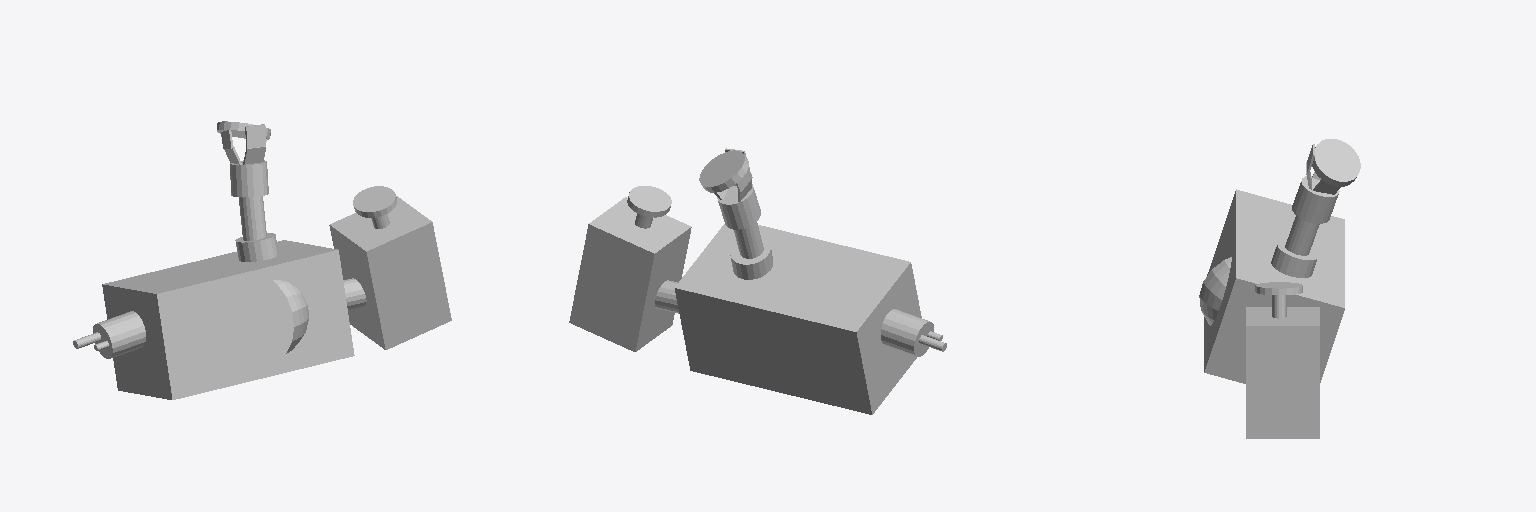
File: InteractableItem_BrokenRobot_OBJ.obj
3 renders of one model, left to right at view 1: azimuth 30°, elevation 25°; view 2: azimuth 150°, elevation 25°; view 3: azimuth 270°, elevation 25°, orthographic.
Visible parts, largest first — view 1: pCylinder11; view 2: pCylinder11; view 3: pCylinder11.
Part boxes in pixels (bbox=[...]): pCylinder11: bbox=[73, 121, 451, 399]; pCylinder11: bbox=[569, 148, 946, 414]; pCylinder11: bbox=[1199, 139, 1360, 438].
Size of the model in its own units: 2.14 by 1.34 by 0.8363.